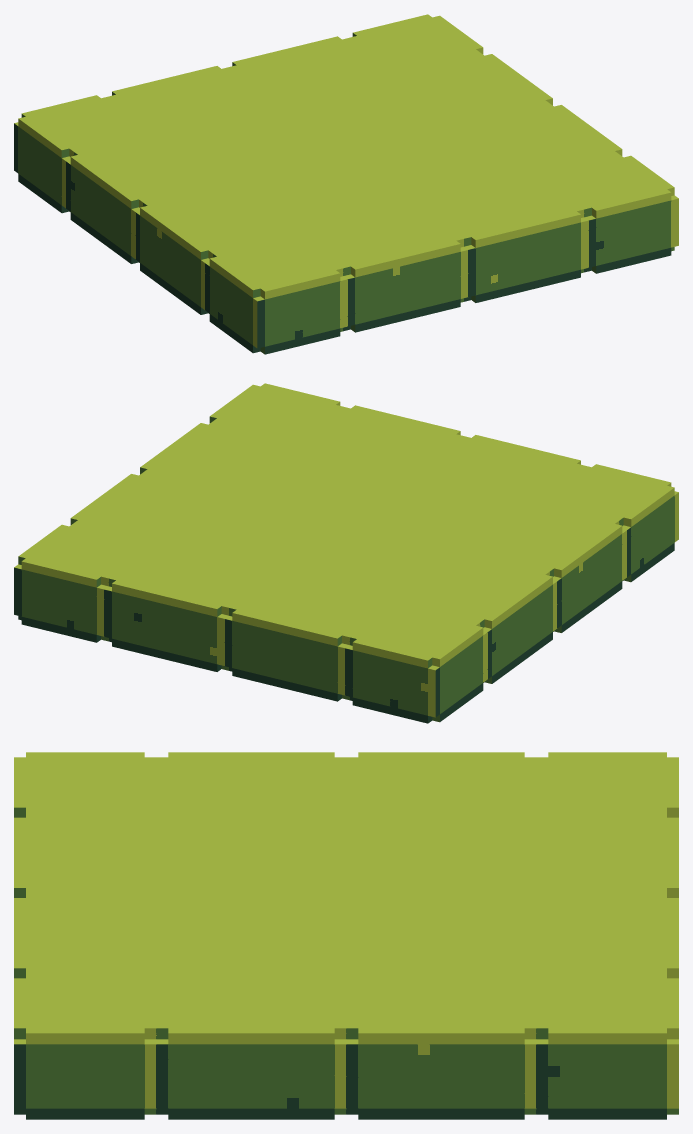
The model's file is sewer_outao.fezao.glb.
3 renders of one model, top to bottom at view 1: azimuth 30°, elevation 25°; view 2: azimuth 150°, elevation 25°; view 3: azimuth 270°, elevation 25°, orthographic. The views are drawn at different scales.
Visible parts, largest first — view 1: SEWER_OUTAO; view 2: SEWER_OUTAO; view 3: SEWER_OUTAO.
Part boxes in pixels (x1=…): SEWER_OUTAO: x1=14, y1=14, x2=678, y2=354; SEWER_OUTAO: x1=14, y1=383, x2=678, y2=723; SEWER_OUTAO: x1=14, y1=752, x2=678, y2=1119.
Size of the model in its own units: 3.5 by 0.5 by 3.5.
Materials: 1 (1 with a texture image).
